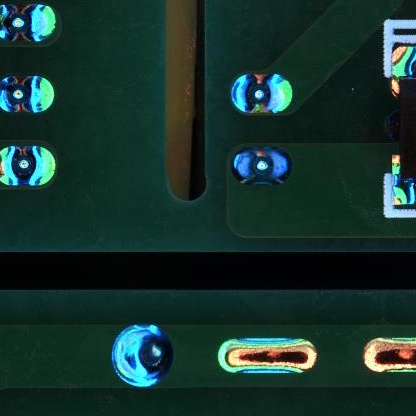spot: (112, 321, 173, 386), (232, 74, 294, 115), (1, 4, 56, 47), (230, 149, 295, 184), (1, 145, 55, 186), (1, 76, 52, 112)
